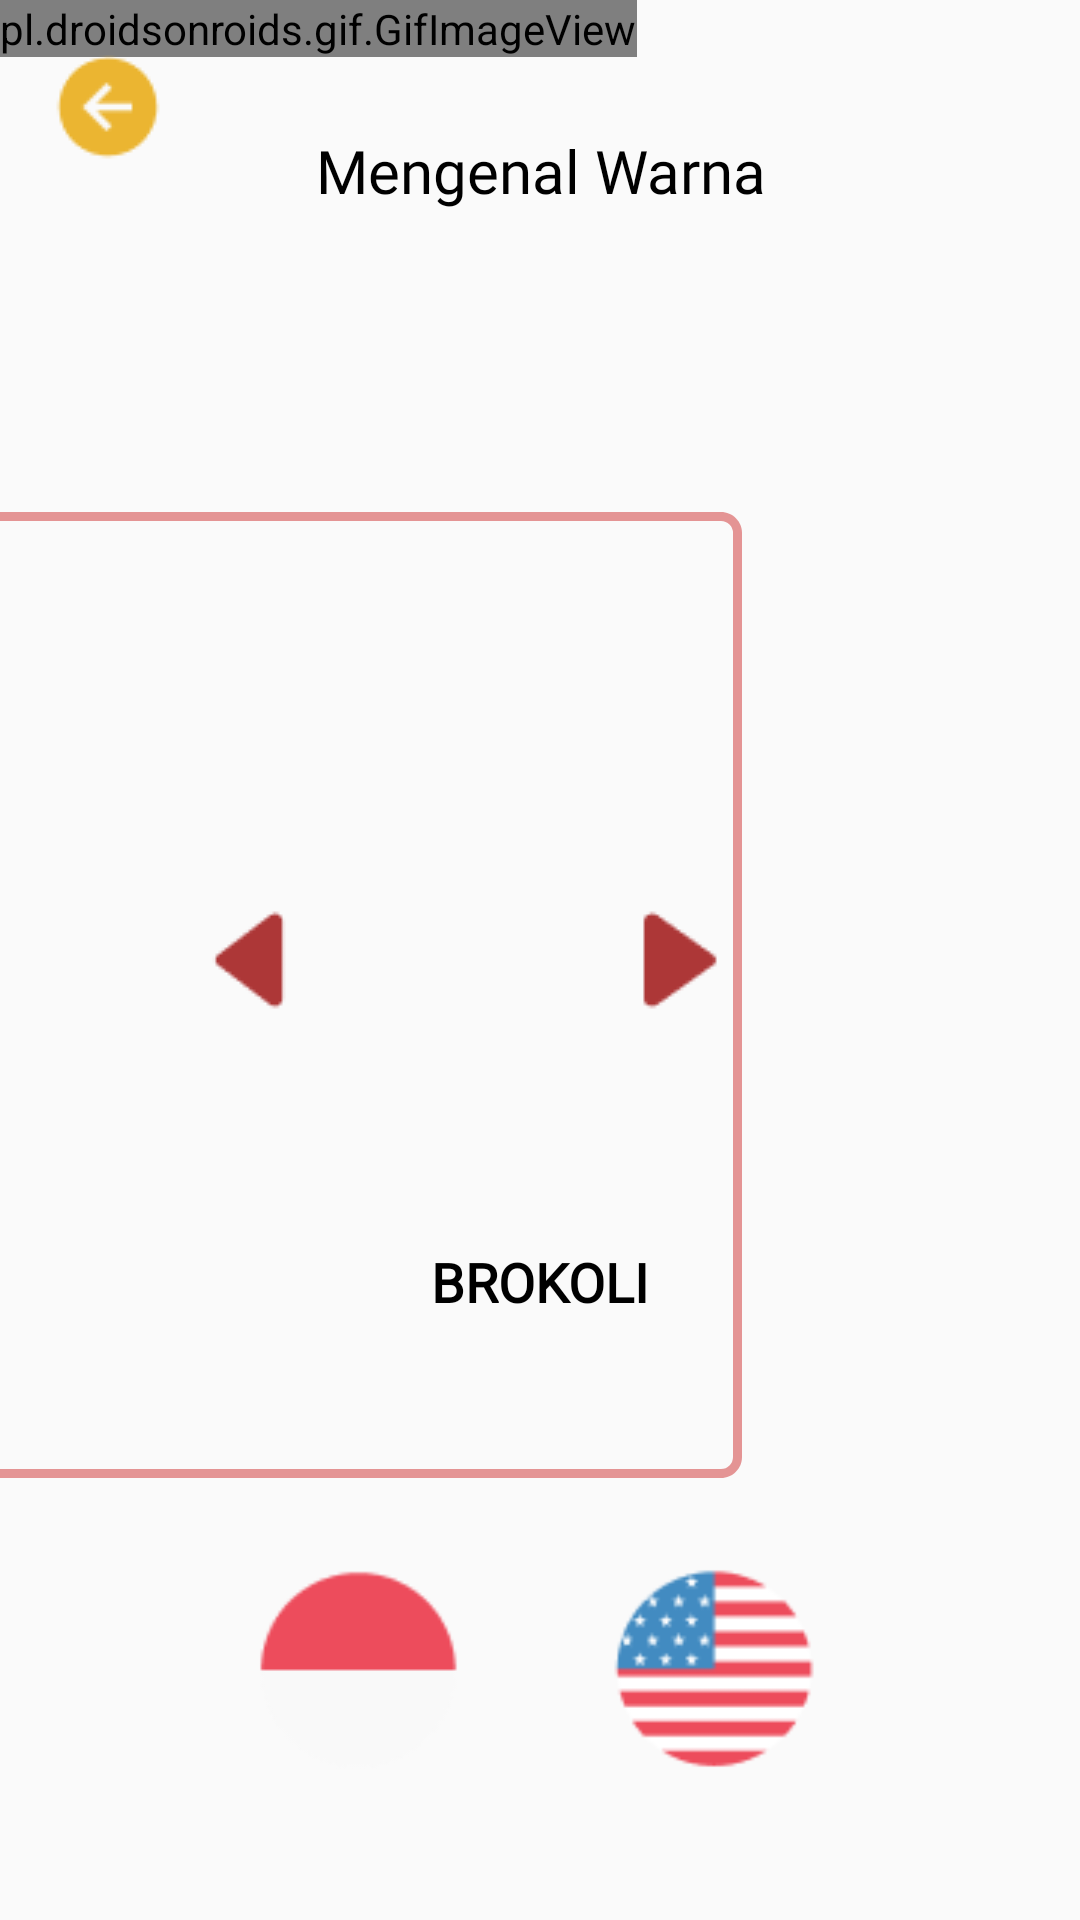

Icons on this 1080×1920 Android screen, each with the point to tap as (x=x, y=y):
back: (x=249, y=959)
inggris: (x=714, y=1668)
keluar: (x=108, y=102)
next: (x=680, y=959)
